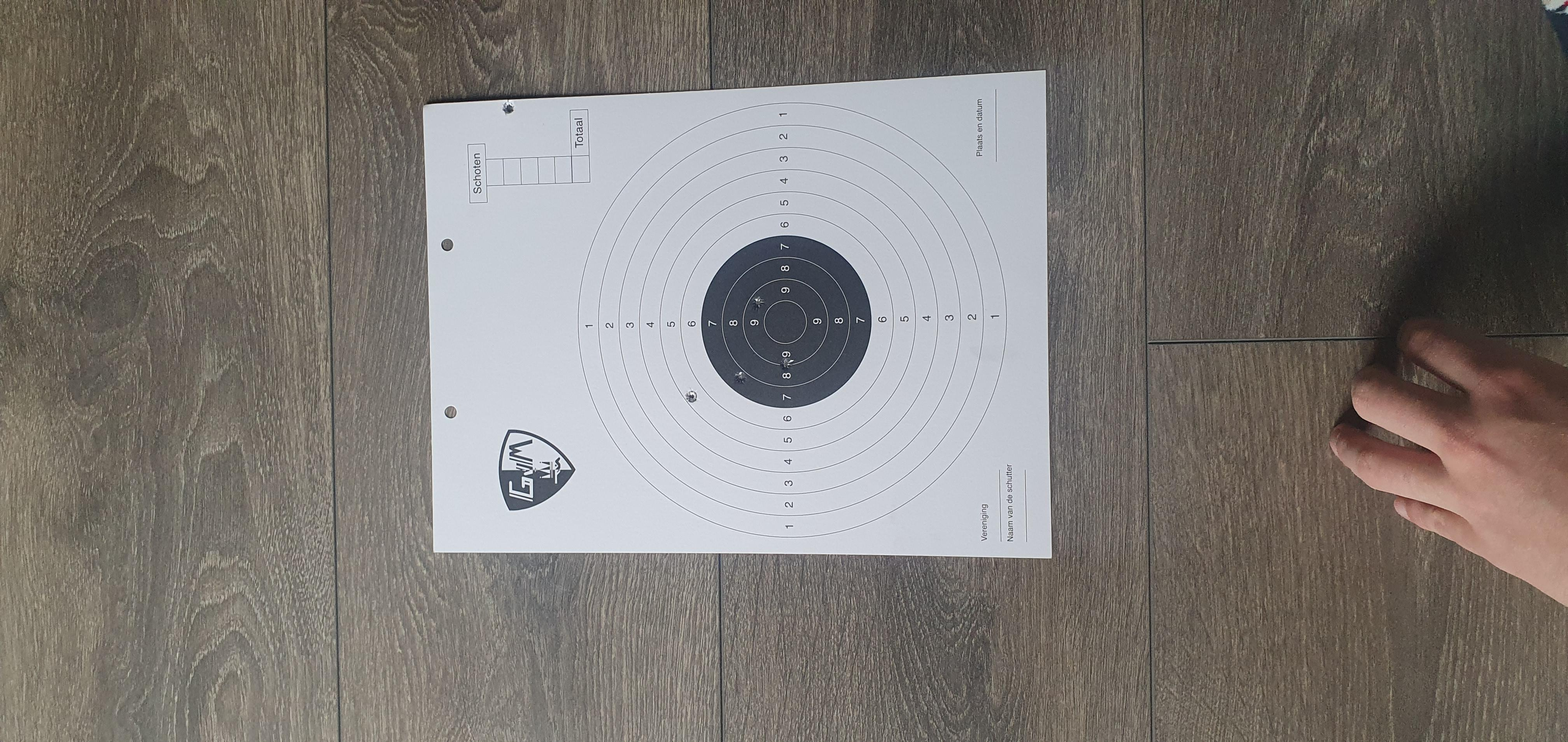hole: (778, 368, 814, 376), (714, 323, 748, 331), (754, 346, 788, 354), (914, 354, 948, 362), (1322, 237, 1356, 244)
